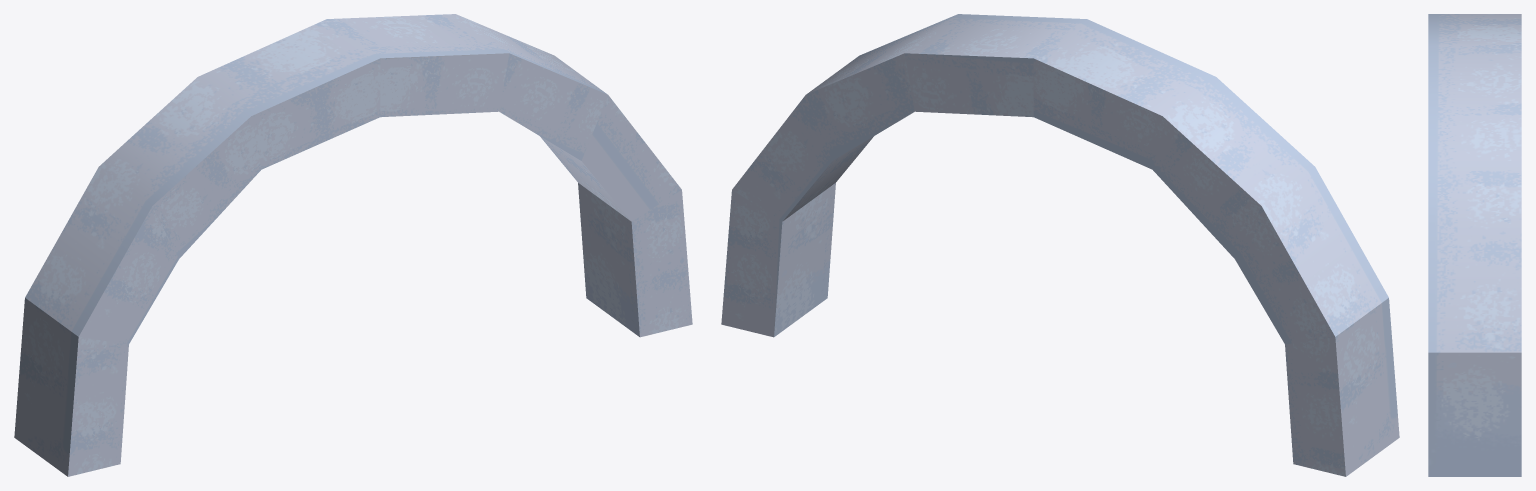
Rendered from SM_museumArch.fbx.
3 views of the same model, side by side, from view 1: azimuth 30°, elevation 25°; view 2: azimuth 150°, elevation 25°; view 3: azimuth 270°, elevation 25° (orthographic). The views are drawn at different scales.
Visible parts, largest first — view 1: arch; view 2: arch; view 3: arch.
Part boxes in pixels (x1,y1,x2,y2): arch: (14, 14, 692, 476); arch: (721, 14, 1399, 476); arch: (1428, 14, 1521, 476).
Bounding box in the file's own units: 35.49 × 18.59 × 5.28.
Materials: 1 (1 with a texture image).
